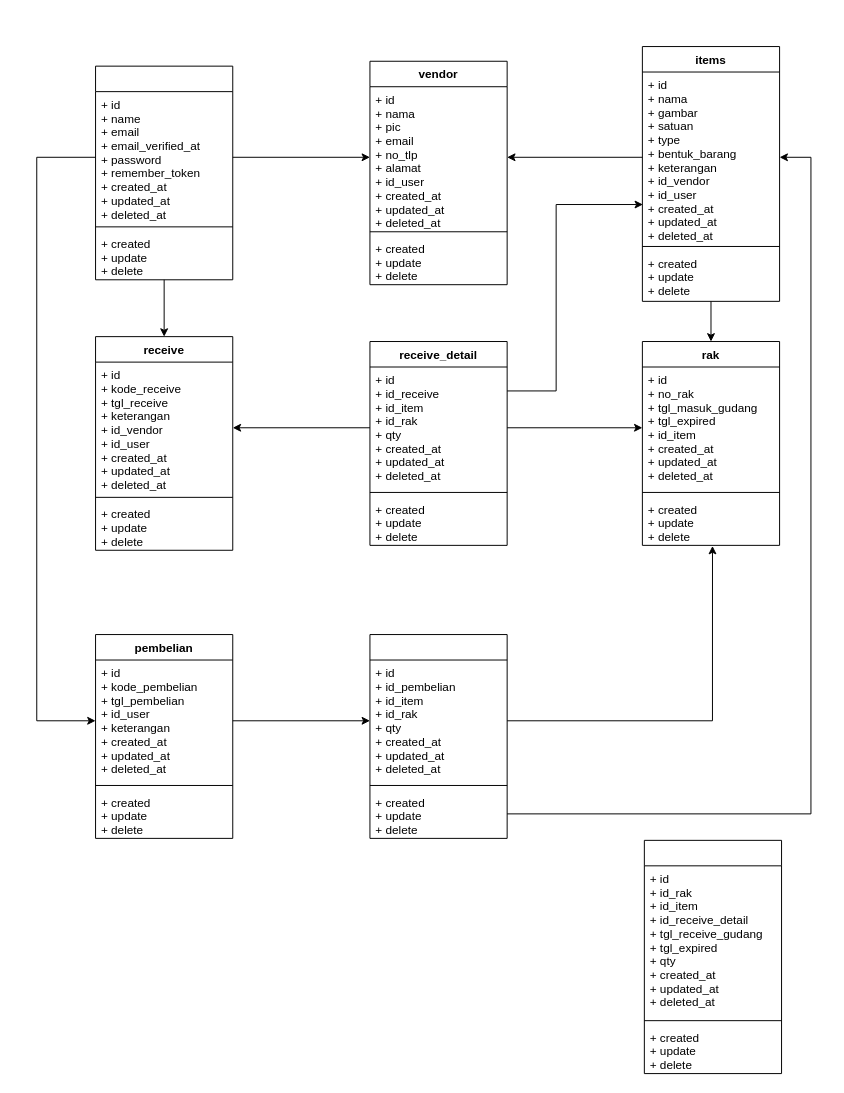
This 844x1093 diagram has some shape labels left out. The shapes that lost their labels are listed below. From the top down, each one's box as (x1, y1, x2, y2) in pixels, then its label:
(95, 65, 233, 280): user
(369, 634, 507, 838): detail_pembelian
(643, 839, 782, 1074): inventory
